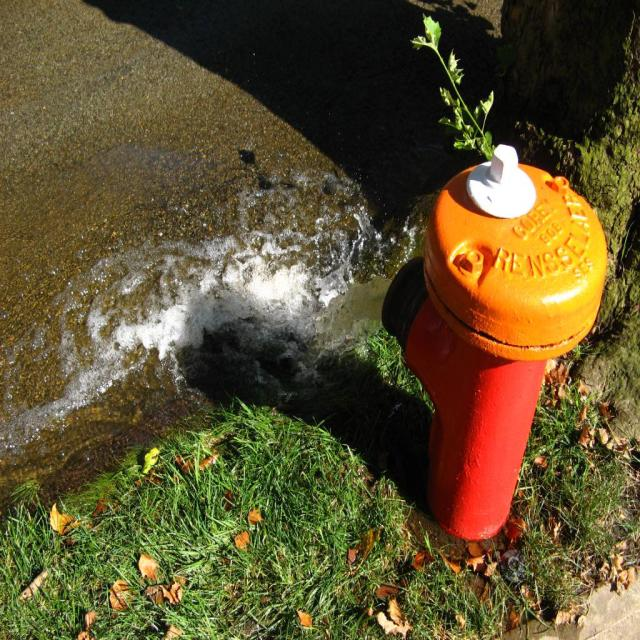fire_hydrant: (382, 140, 608, 557)
